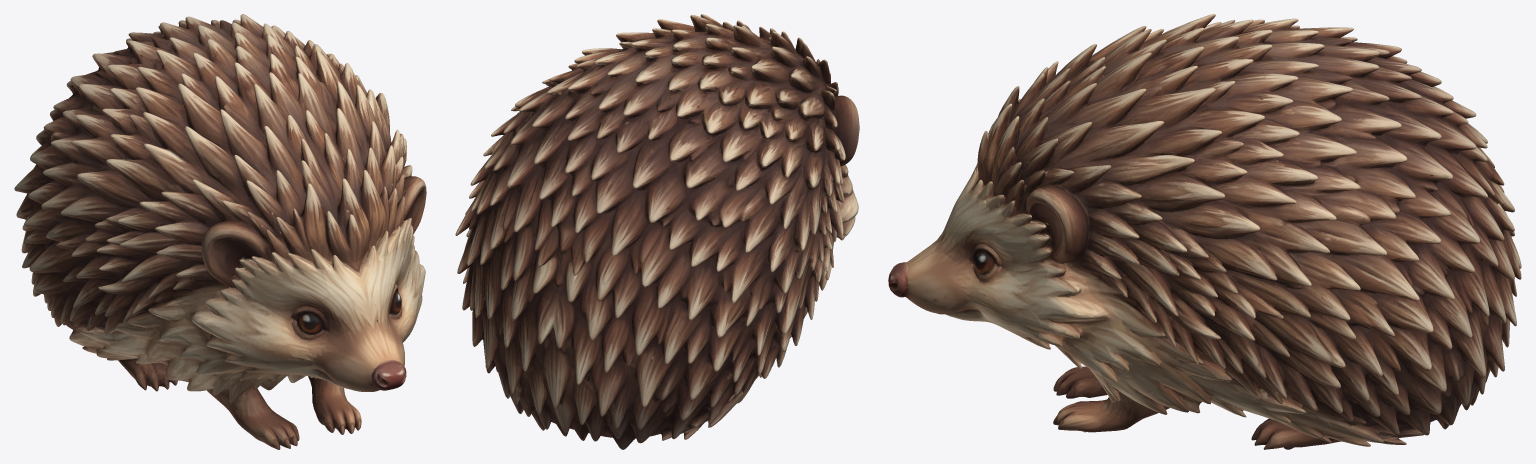
File: Hedgehog.glb
3 renders of one model, left to right at view 1: azimuth 30°, elevation 25°; view 2: azimuth 150°, elevation 25°; view 3: azimuth 270°, elevation 25°, orthographic. The views are drawn at different scales.
Visible parts, largest first — view 1: output_unwrapped; view 2: output_unwrapped; view 3: output_unwrapped.
Boxes of the visible parts, x1,y1,x2,y2 form: output_unwrapped: (14,14,426,449); output_unwrapped: (455,14,859,449); output_unwrapped: (888,14,1521,449).
Bounding box in the file's own units: 1.26 × 1.24 × 1.9.
1 material, 1 textured.
